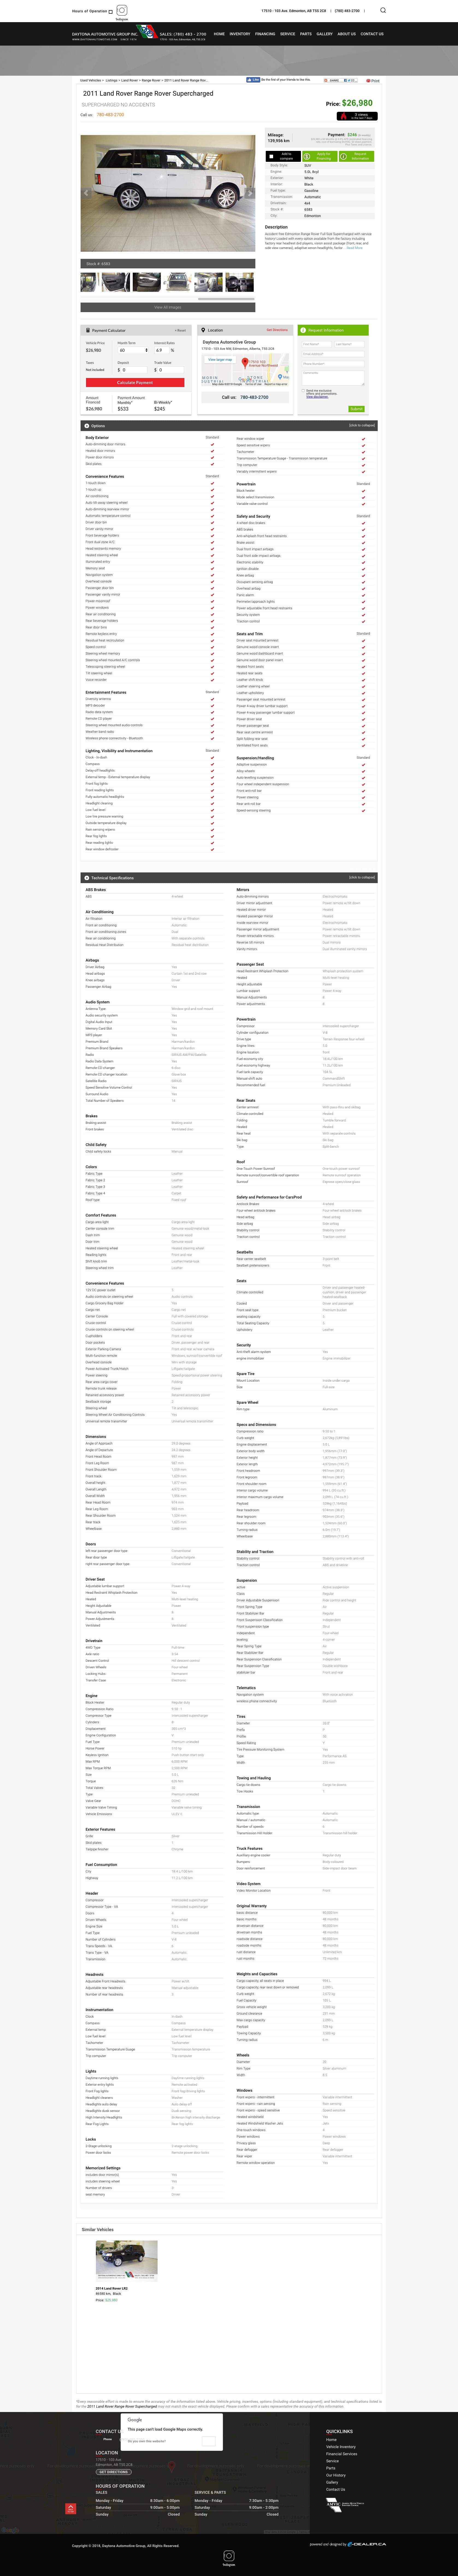car: (243, 187, 256, 200)
